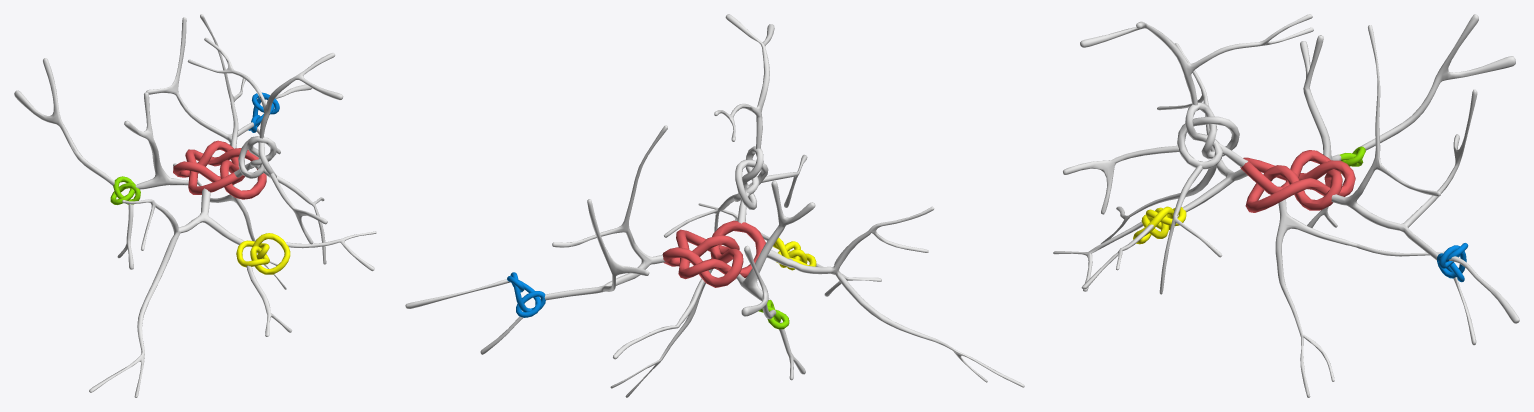
Rendered from knot_sculpture.gltf.
3 views of the same model, side by side, from view 1: azimuth 30°, elevation 25°; view 2: azimuth 150°, elevation 25°; view 3: azimuth 270°, elevation 25° (orthographic). The views are drawn at different scales.
Parts seen in each view (by area): view 1: Structure, Knot.003_mesh_lowpoly, Knot.004_mesh.lowpoly, Knot.002_mesh_lowpoly, Knot.001_mesh_lowpoly, Knot.005_mesh.lowpoly; view 2: Structure, Knot.003_mesh_lowpoly, Knot.002_mesh_lowpoly, Knot.005_mesh.lowpoly, Knot.004_mesh.lowpoly; view 3: Structure, Knot.003_mesh_lowpoly, Knot.002_mesh_lowpoly, Knot.004_mesh.lowpoly, Knot.005_mesh.lowpoly.
Boxes of the visible parts, bbox=[...] form: Structure: bbox=[14, 14, 376, 397]; Knot.003_mesh_lowpoly: bbox=[173, 140, 266, 199]; Knot.004_mesh.lowpoly: bbox=[236, 233, 290, 274]; Knot.002_mesh_lowpoly: bbox=[238, 136, 276, 178]; Knot.001_mesh_lowpoly: bbox=[110, 176, 140, 204]; Knot.005_mesh.lowpoly: bbox=[248, 92, 279, 132]; Structure: bbox=[405, 14, 1024, 397]; Knot.003_mesh_lowpoly: bbox=[662, 220, 765, 287]; Knot.002_mesh_lowpoly: bbox=[733, 146, 768, 209]; Knot.005_mesh.lowpoly: bbox=[507, 272, 545, 317]; Knot.004_mesh.lowpoly: bbox=[773, 237, 816, 270]; Structure: bbox=[1053, 14, 1519, 397]; Knot.003_mesh_lowpoly: bbox=[1240, 150, 1355, 212]; Knot.002_mesh_lowpoly: bbox=[1177, 102, 1239, 169]; Knot.004_mesh.lowpoly: bbox=[1133, 206, 1186, 244]; Knot.005_mesh.lowpoly: bbox=[1437, 243, 1468, 282].
Bounding box in the file's own units: 12.4 × 9.03 × 10.55.
